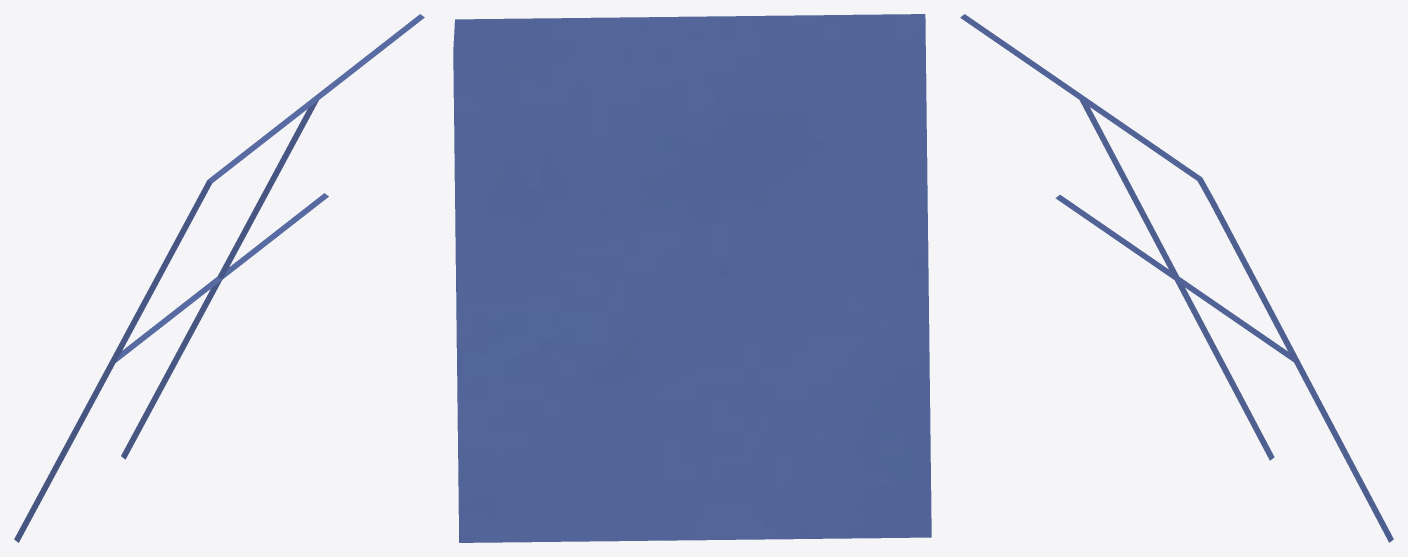
3 views of the same model, side by side, from view 1: azimuth 30°, elevation 25°; view 2: azimuth 150°, elevation 25°; view 3: azimuth 270°, elevation 25° (orthographic). The views are drawn at different scales.
Size of the model in its own units: 19667 by 17686 by 16840.
1 material, 1 textured.
